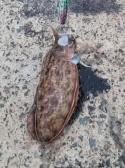Cephalopod: (26, 27, 81, 143)
